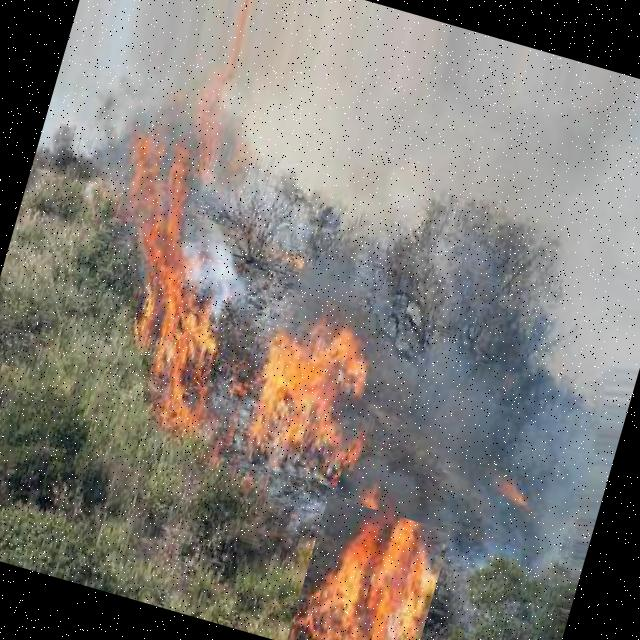fire: (228, 285, 384, 488), (285, 496, 450, 640)
